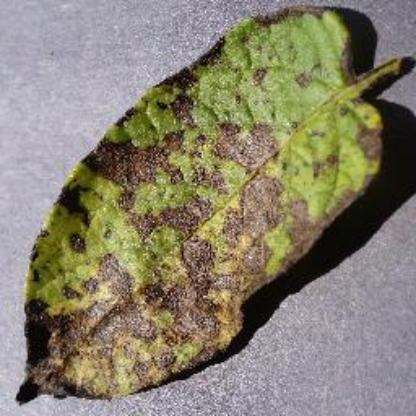Early-Blight: (15, 6, 415, 404)
